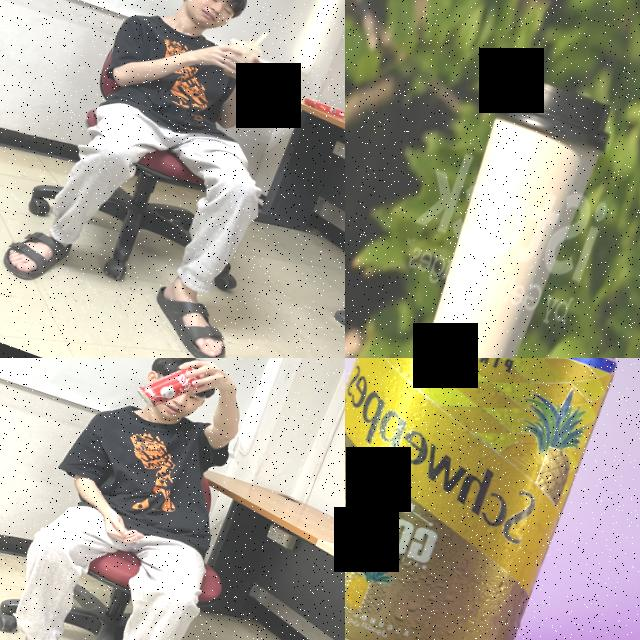can: (345, 358, 630, 640), (132, 358, 209, 422)
cup: (387, 66, 622, 358), (216, 35, 264, 85)
